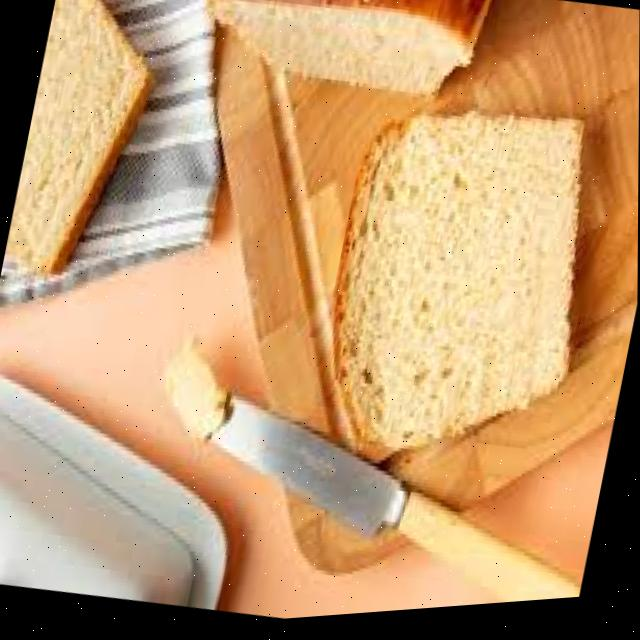Bread: (339, 123, 582, 455), (6, 0, 152, 273), (208, 0, 491, 101)
